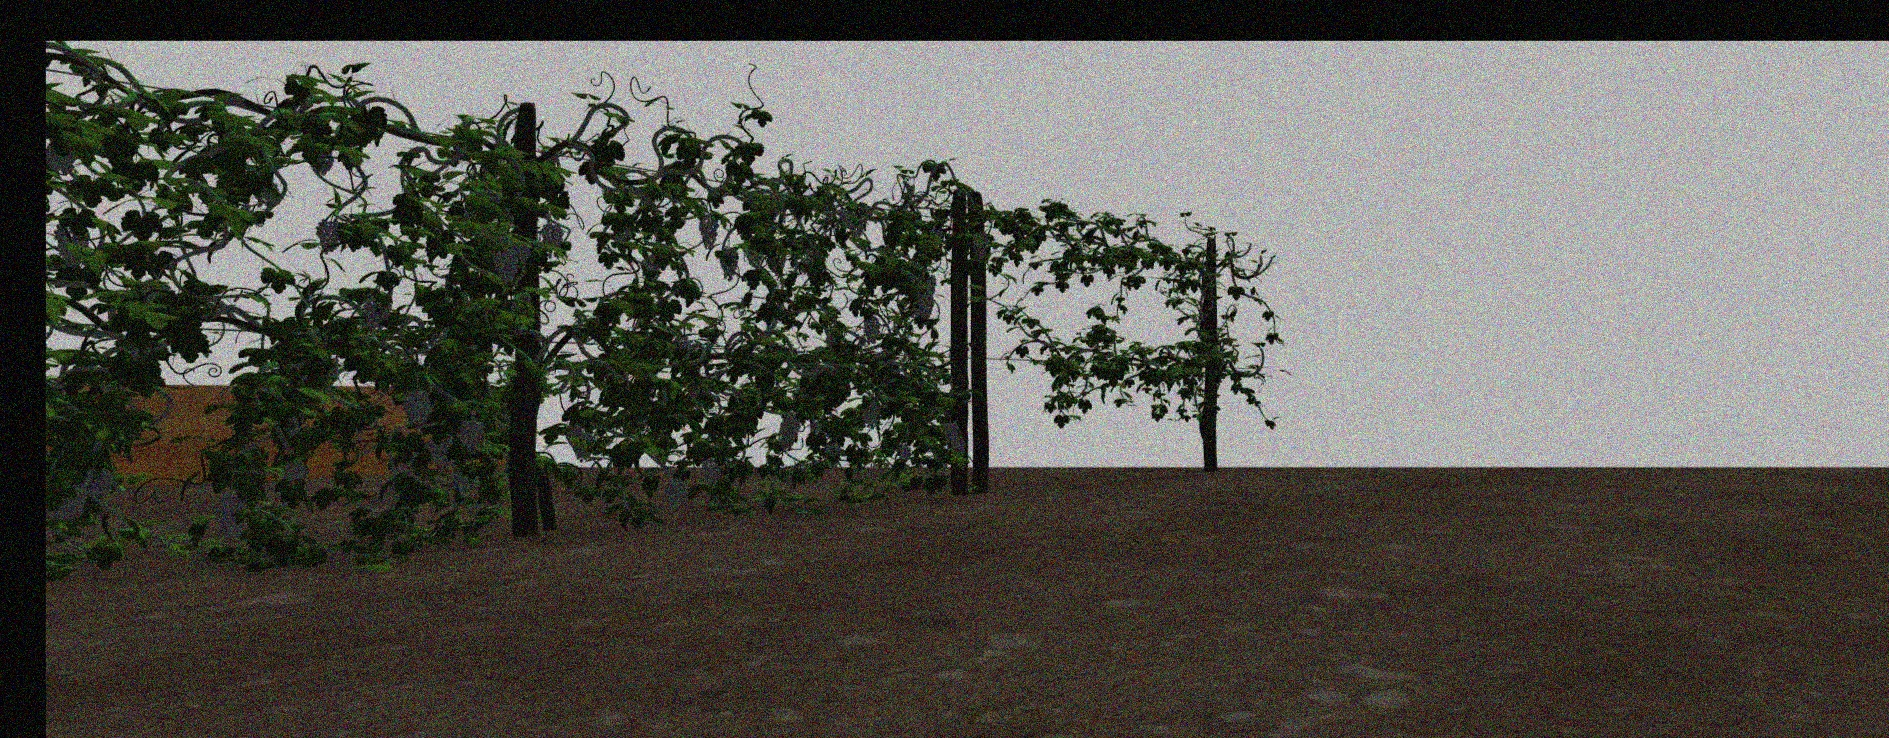grape: (212, 492, 247, 541), (53, 224, 87, 270), (55, 480, 90, 524), (401, 386, 431, 429), (360, 293, 393, 330), (426, 431, 454, 473), (911, 276, 937, 318), (458, 415, 484, 454), (86, 464, 111, 502), (47, 141, 73, 175), (314, 217, 339, 253), (281, 455, 307, 488), (698, 212, 720, 249), (777, 412, 800, 447), (717, 246, 738, 281), (498, 248, 518, 284), (661, 478, 685, 508), (540, 222, 563, 253), (700, 456, 720, 488), (969, 232, 989, 262), (860, 401, 879, 429), (863, 314, 879, 344), (949, 433, 965, 459), (942, 420, 959, 439), (894, 444, 911, 460)
